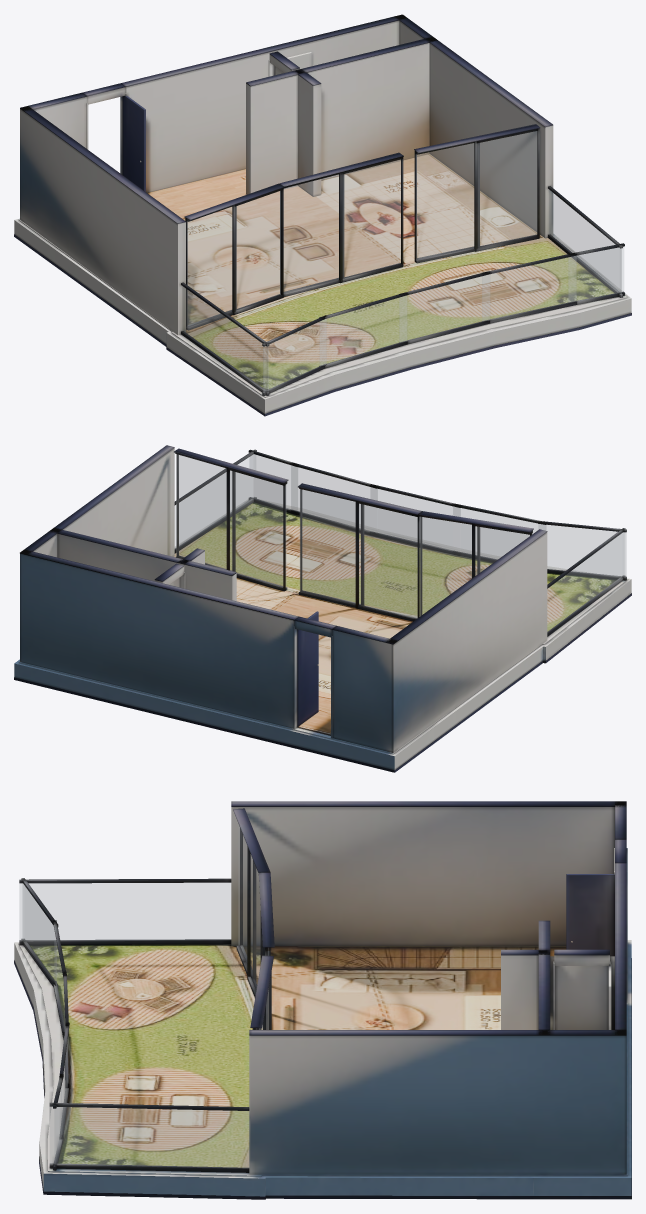
The picture shows the model from 3 angles, top to bottom: view 1: azimuth 30°, elevation 25°; view 2: azimuth 150°, elevation 25°; view 3: azimuth 270°, elevation 25°; orthographic projection. The views are drawn at different scales.
Visible parts, largest first — view 1: plan, glass2_m, glass1_m, glass0_m, railg2_m, railg3_m, railg4_m, railg6_m, railg0_m, railg5_m, railg1_m; view 2: plan, glass1_m, glass2_m, glass0_m, railg6_m, railg5_m, railg2_m, railg0_m, railg3_m, railg4_m, railg1_m; view 3: plan, railg6_m, railg0_m, glass0_m, railg5_m.
Boxes of the visible parts, x1,y1,x2,y2 form: plan: (14, 14, 631, 416); glass2_m: (416, 131, 536, 259); glass1_m: (284, 160, 400, 293); glass0_m: (187, 191, 280, 326); railg2_m: (482, 256, 576, 321); railg3_m: (399, 274, 489, 342); railg4_m: (320, 296, 406, 365); railg6_m: (182, 286, 268, 392); railg0_m: (549, 190, 621, 294); railg5_m: (263, 319, 326, 392); railg1_m: (568, 247, 623, 302); plan: (14, 445, 631, 772); glass1_m: (300, 489, 417, 617); glass2_m: (176, 454, 286, 587); glass0_m: (420, 517, 529, 615); railg6_m: (547, 533, 623, 632); railg5_m: (538, 524, 626, 576); railg2_m: (291, 465, 377, 530); railg0_m: (175, 454, 255, 548); railg3_m: (370, 487, 460, 550); railg4_m: (453, 507, 546, 559); railg1_m: (250, 454, 297, 511); plan: (14, 801, 631, 1199); railg6_m: (19, 883, 230, 940); railg0_m: (50, 1107, 248, 1168); glass0_m: (238, 824, 260, 987); railg5_m: (23, 884, 56, 984).
Size of the model in its own units: 8.31 by 2.62 by 9.06.
2 materials, 1 textured.
